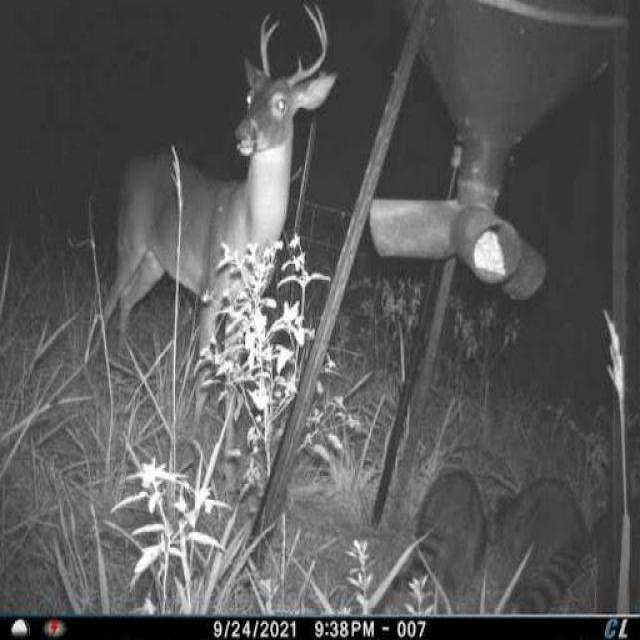deer: (81, 1, 341, 456)
